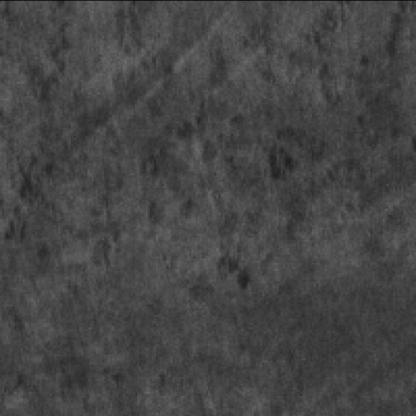rolled-in_scale: (137, 96, 412, 316), (2, 162, 125, 294)
